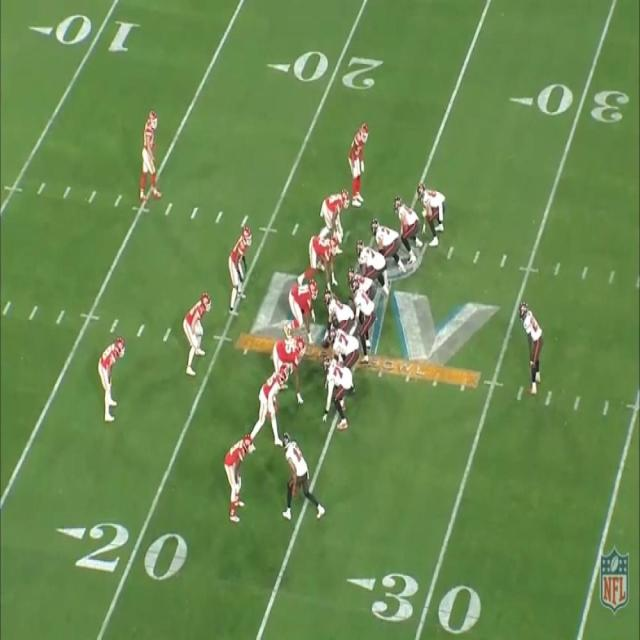center: (323, 292, 347, 324)
db: (224, 432, 248, 515), (101, 337, 124, 420), (349, 120, 368, 203), (142, 109, 159, 198)
lb: (182, 288, 208, 372), (229, 220, 246, 313)
qb: (352, 280, 376, 357)
skill: (280, 431, 322, 517), (388, 197, 425, 259), (518, 304, 544, 392), (257, 365, 284, 439), (416, 184, 446, 242), (322, 185, 346, 232)
